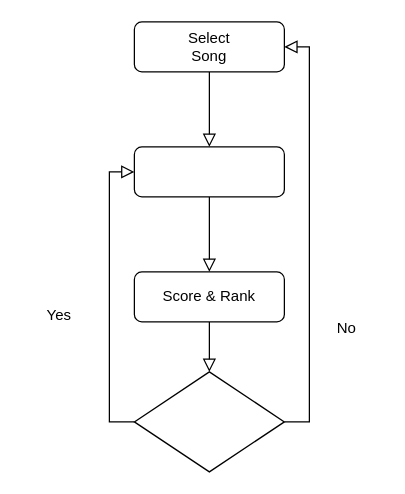
Image size: 405x494. Some labels were removed from this diagram. The centre of each missing label's shape, as x and y in pixels:
"Play Song & Note" belongs at point 208,171.
"Replay ?" belongs at point 208,421.
